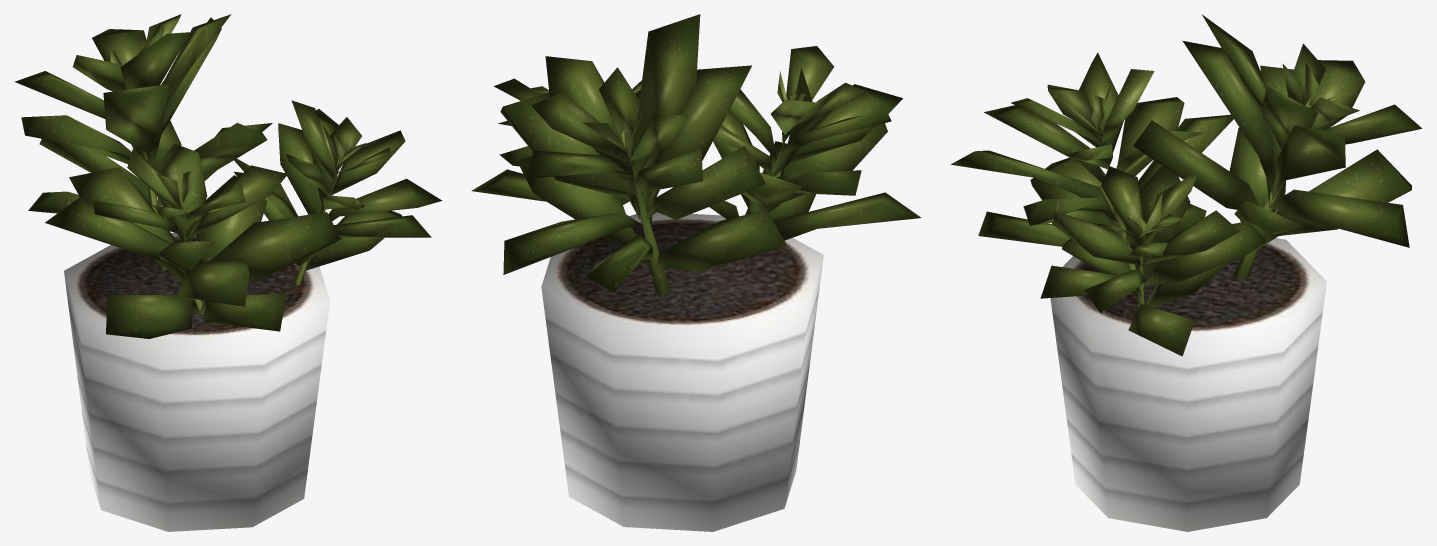
The model's file is shelf-plant.glb.
3 views of the same model, side by side, from view 1: azimuth 30°, elevation 25°; view 2: azimuth 150°, elevation 25°; view 3: azimuth 270°, elevation 25° (orthographic). The views are drawn at different scales.
Parts seen in each view (by area): view 1: plant_plant_001_0; view 2: plant_plant_001_0; view 3: plant_plant_001_0.
Part boxes in pixels (box(x1,y1,x2,y2)): plant_plant_001_0: box(14, 14, 442, 531); plant_plant_001_0: box(472, 14, 921, 531); plant_plant_001_0: box(951, 14, 1422, 531).
Bounding box in the file's own units: 0.1703 × 0.2047 × 0.191.
Materials: 1 (1 with a texture image).
